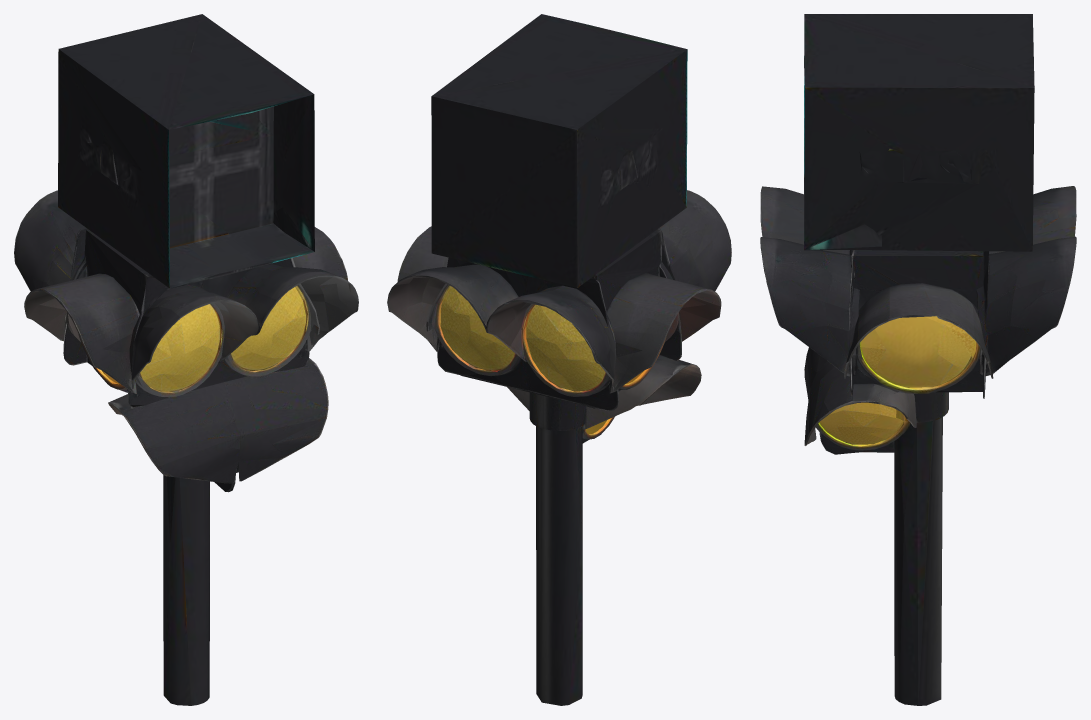
The model's file is lights.glb.
3 renders of one model, left to right at view 1: azimuth 30°, elevation 25°; view 2: azimuth 150°, elevation 25°; view 3: azimuth 270°, elevation 25°, orthographic. The views are drawn at different scales.
Bounding box in the file's own units: 0.8536 × 1.9 × 0.8448.
1 material, 1 textured.
